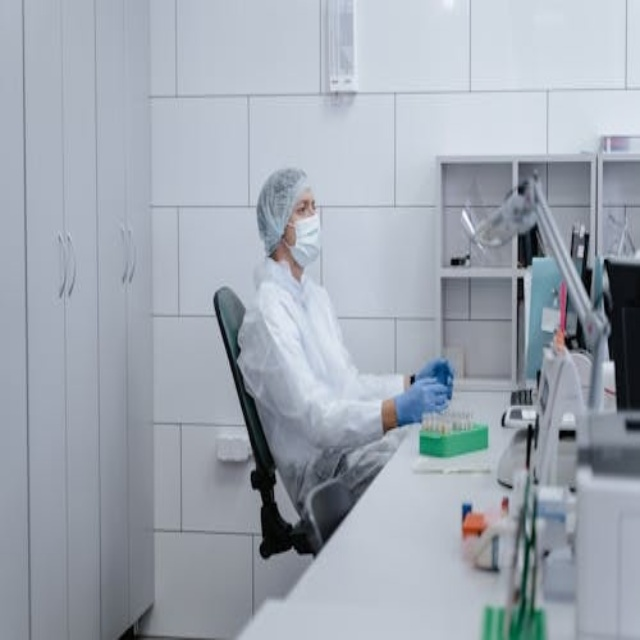Guantes: (396, 377, 451, 427), (415, 356, 457, 402)
Mascara: (284, 211, 322, 268)
Sin_gafas: (291, 192, 320, 221)
